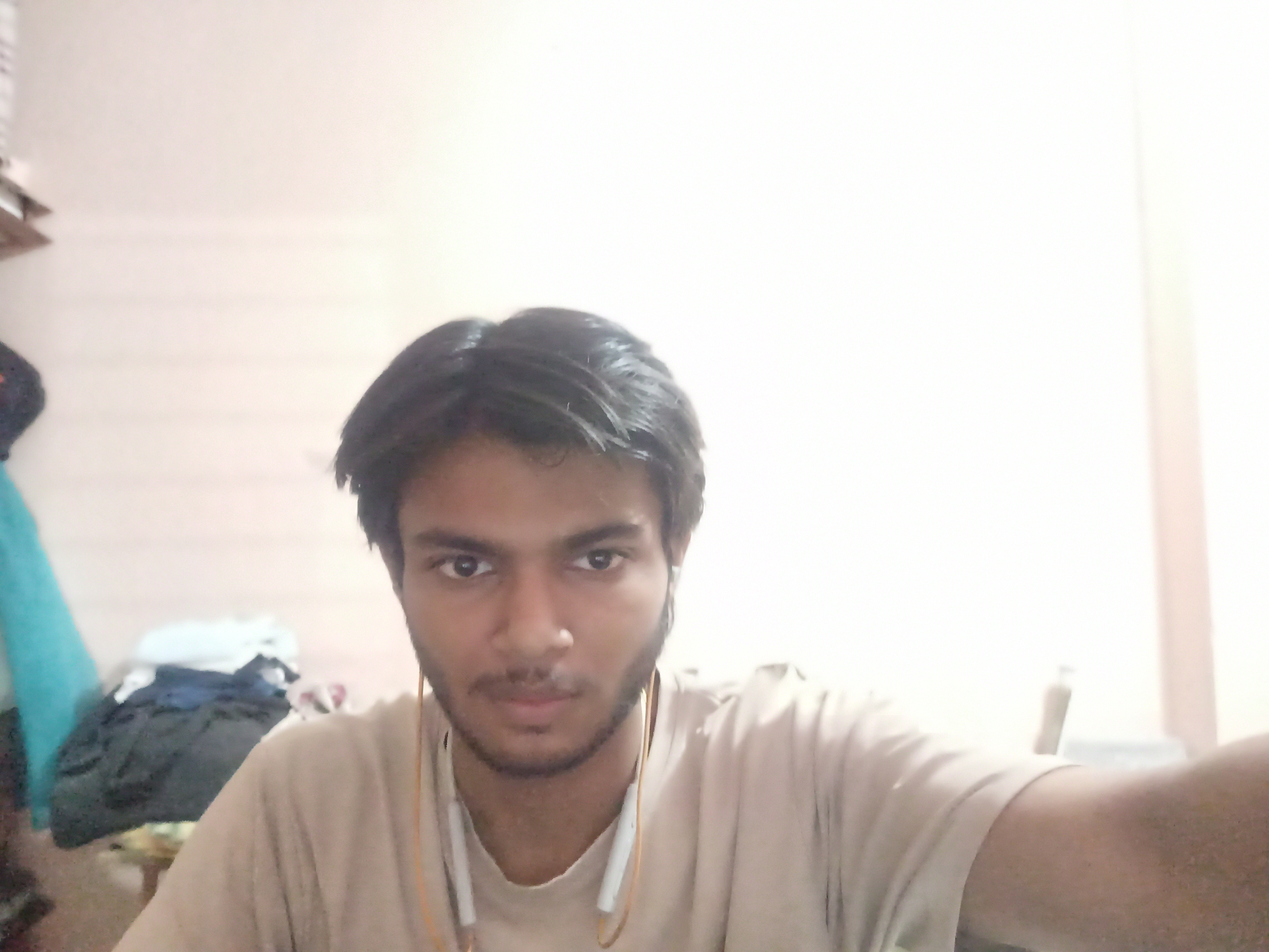Focused: (320, 362, 787, 820)
